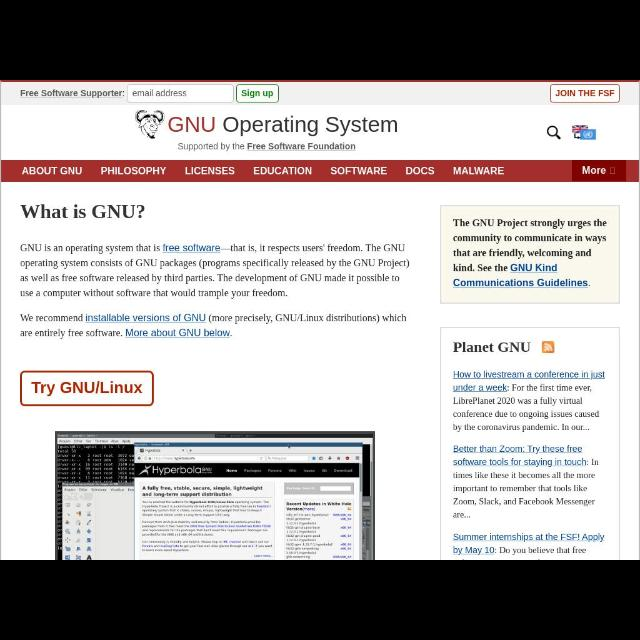icon: (548, 126, 562, 140)
image: (54, 431, 376, 559), (136, 110, 164, 140), (571, 125, 597, 141), (542, 342, 554, 354)
input: (128, 86, 234, 102)
link: (452, 445, 588, 467), (453, 370, 607, 380), (452, 533, 604, 543), (454, 278, 590, 288), (84, 312, 206, 322), (125, 328, 232, 339), (509, 262, 558, 274), (162, 243, 220, 253), (452, 384, 510, 392), (453, 547, 497, 555)
multitab: (21, 166, 606, 174)
text: (20, 244, 410, 298), (453, 218, 607, 288), (453, 446, 599, 518), (19, 313, 407, 339), (452, 371, 606, 432), (168, 116, 398, 138), (453, 534, 605, 556), (20, 204, 144, 220), (31, 382, 143, 396), (178, 142, 356, 150), (20, 90, 124, 98), (454, 342, 530, 352), (254, 164, 312, 176), (102, 165, 166, 175), (454, 166, 504, 177), (330, 167, 388, 176), (555, 89, 615, 97), (22, 166, 82, 174), (132, 90, 186, 98), (184, 166, 233, 174), (242, 88, 272, 100), (582, 165, 608, 175), (406, 166, 434, 174)
textbutton: (20, 371, 154, 407), (550, 84, 620, 102), (237, 84, 279, 102)
